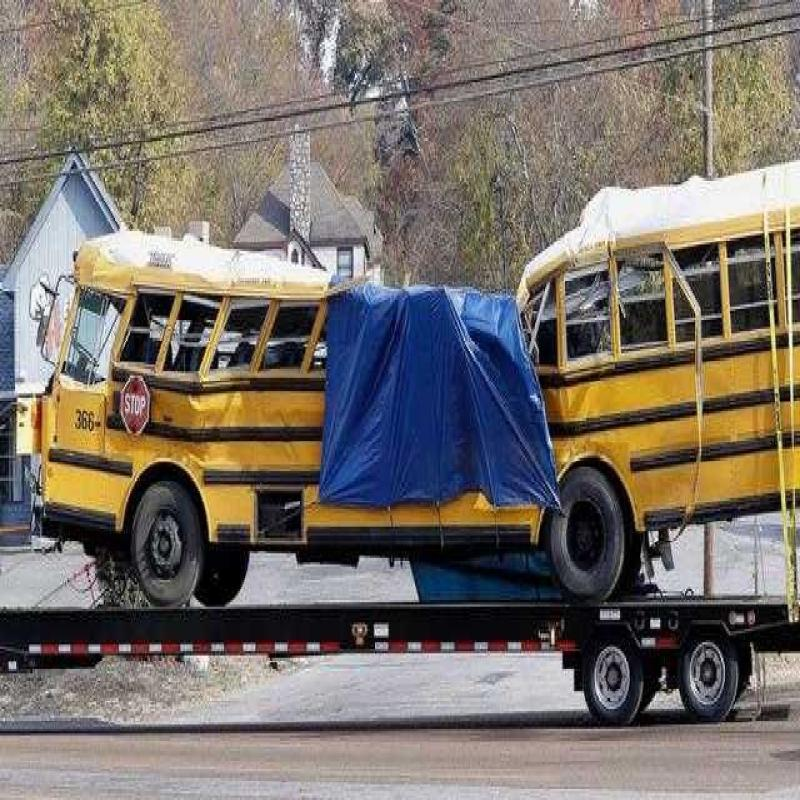bus: (62, 203, 600, 691)
